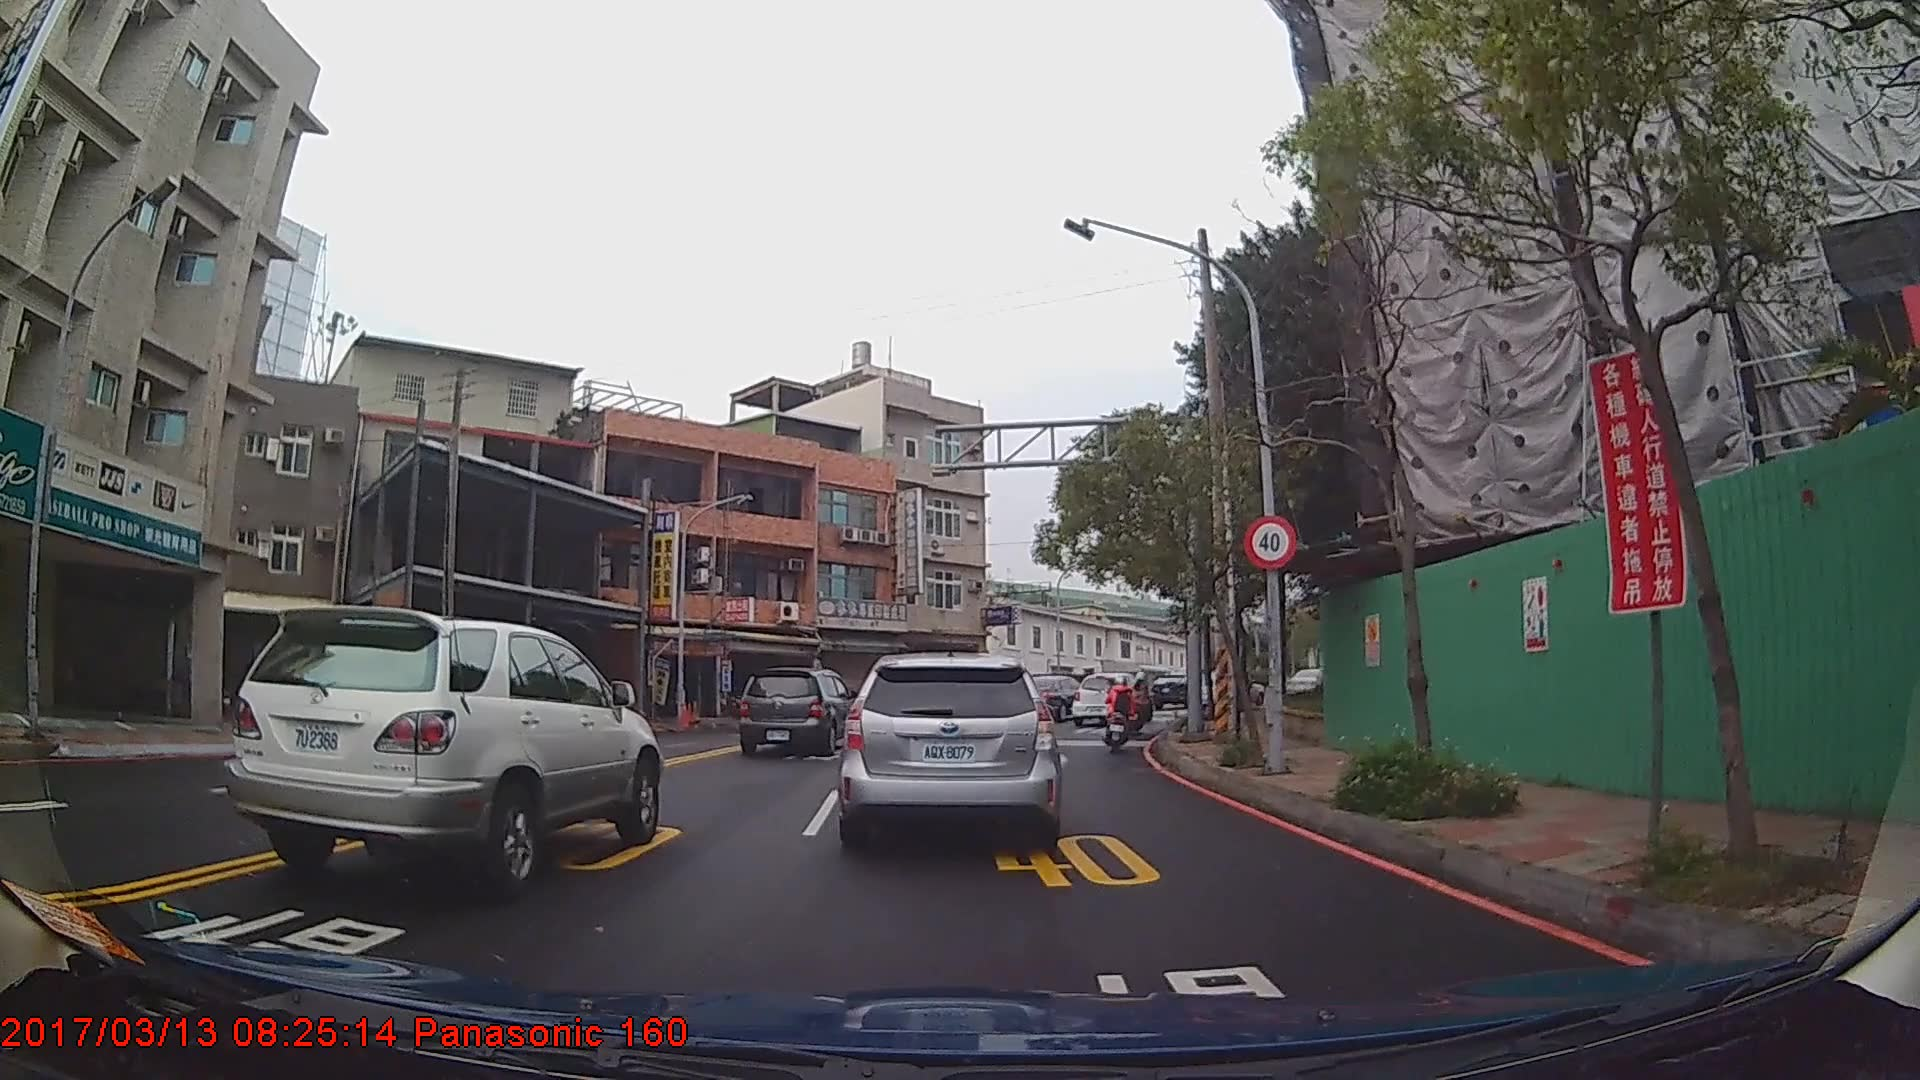rider: (1106, 677, 1136, 751), (1125, 676, 1148, 737)
vehicle: (225, 602, 661, 896), (836, 651, 1062, 852), (737, 665, 861, 755), (1068, 670, 1148, 725)
